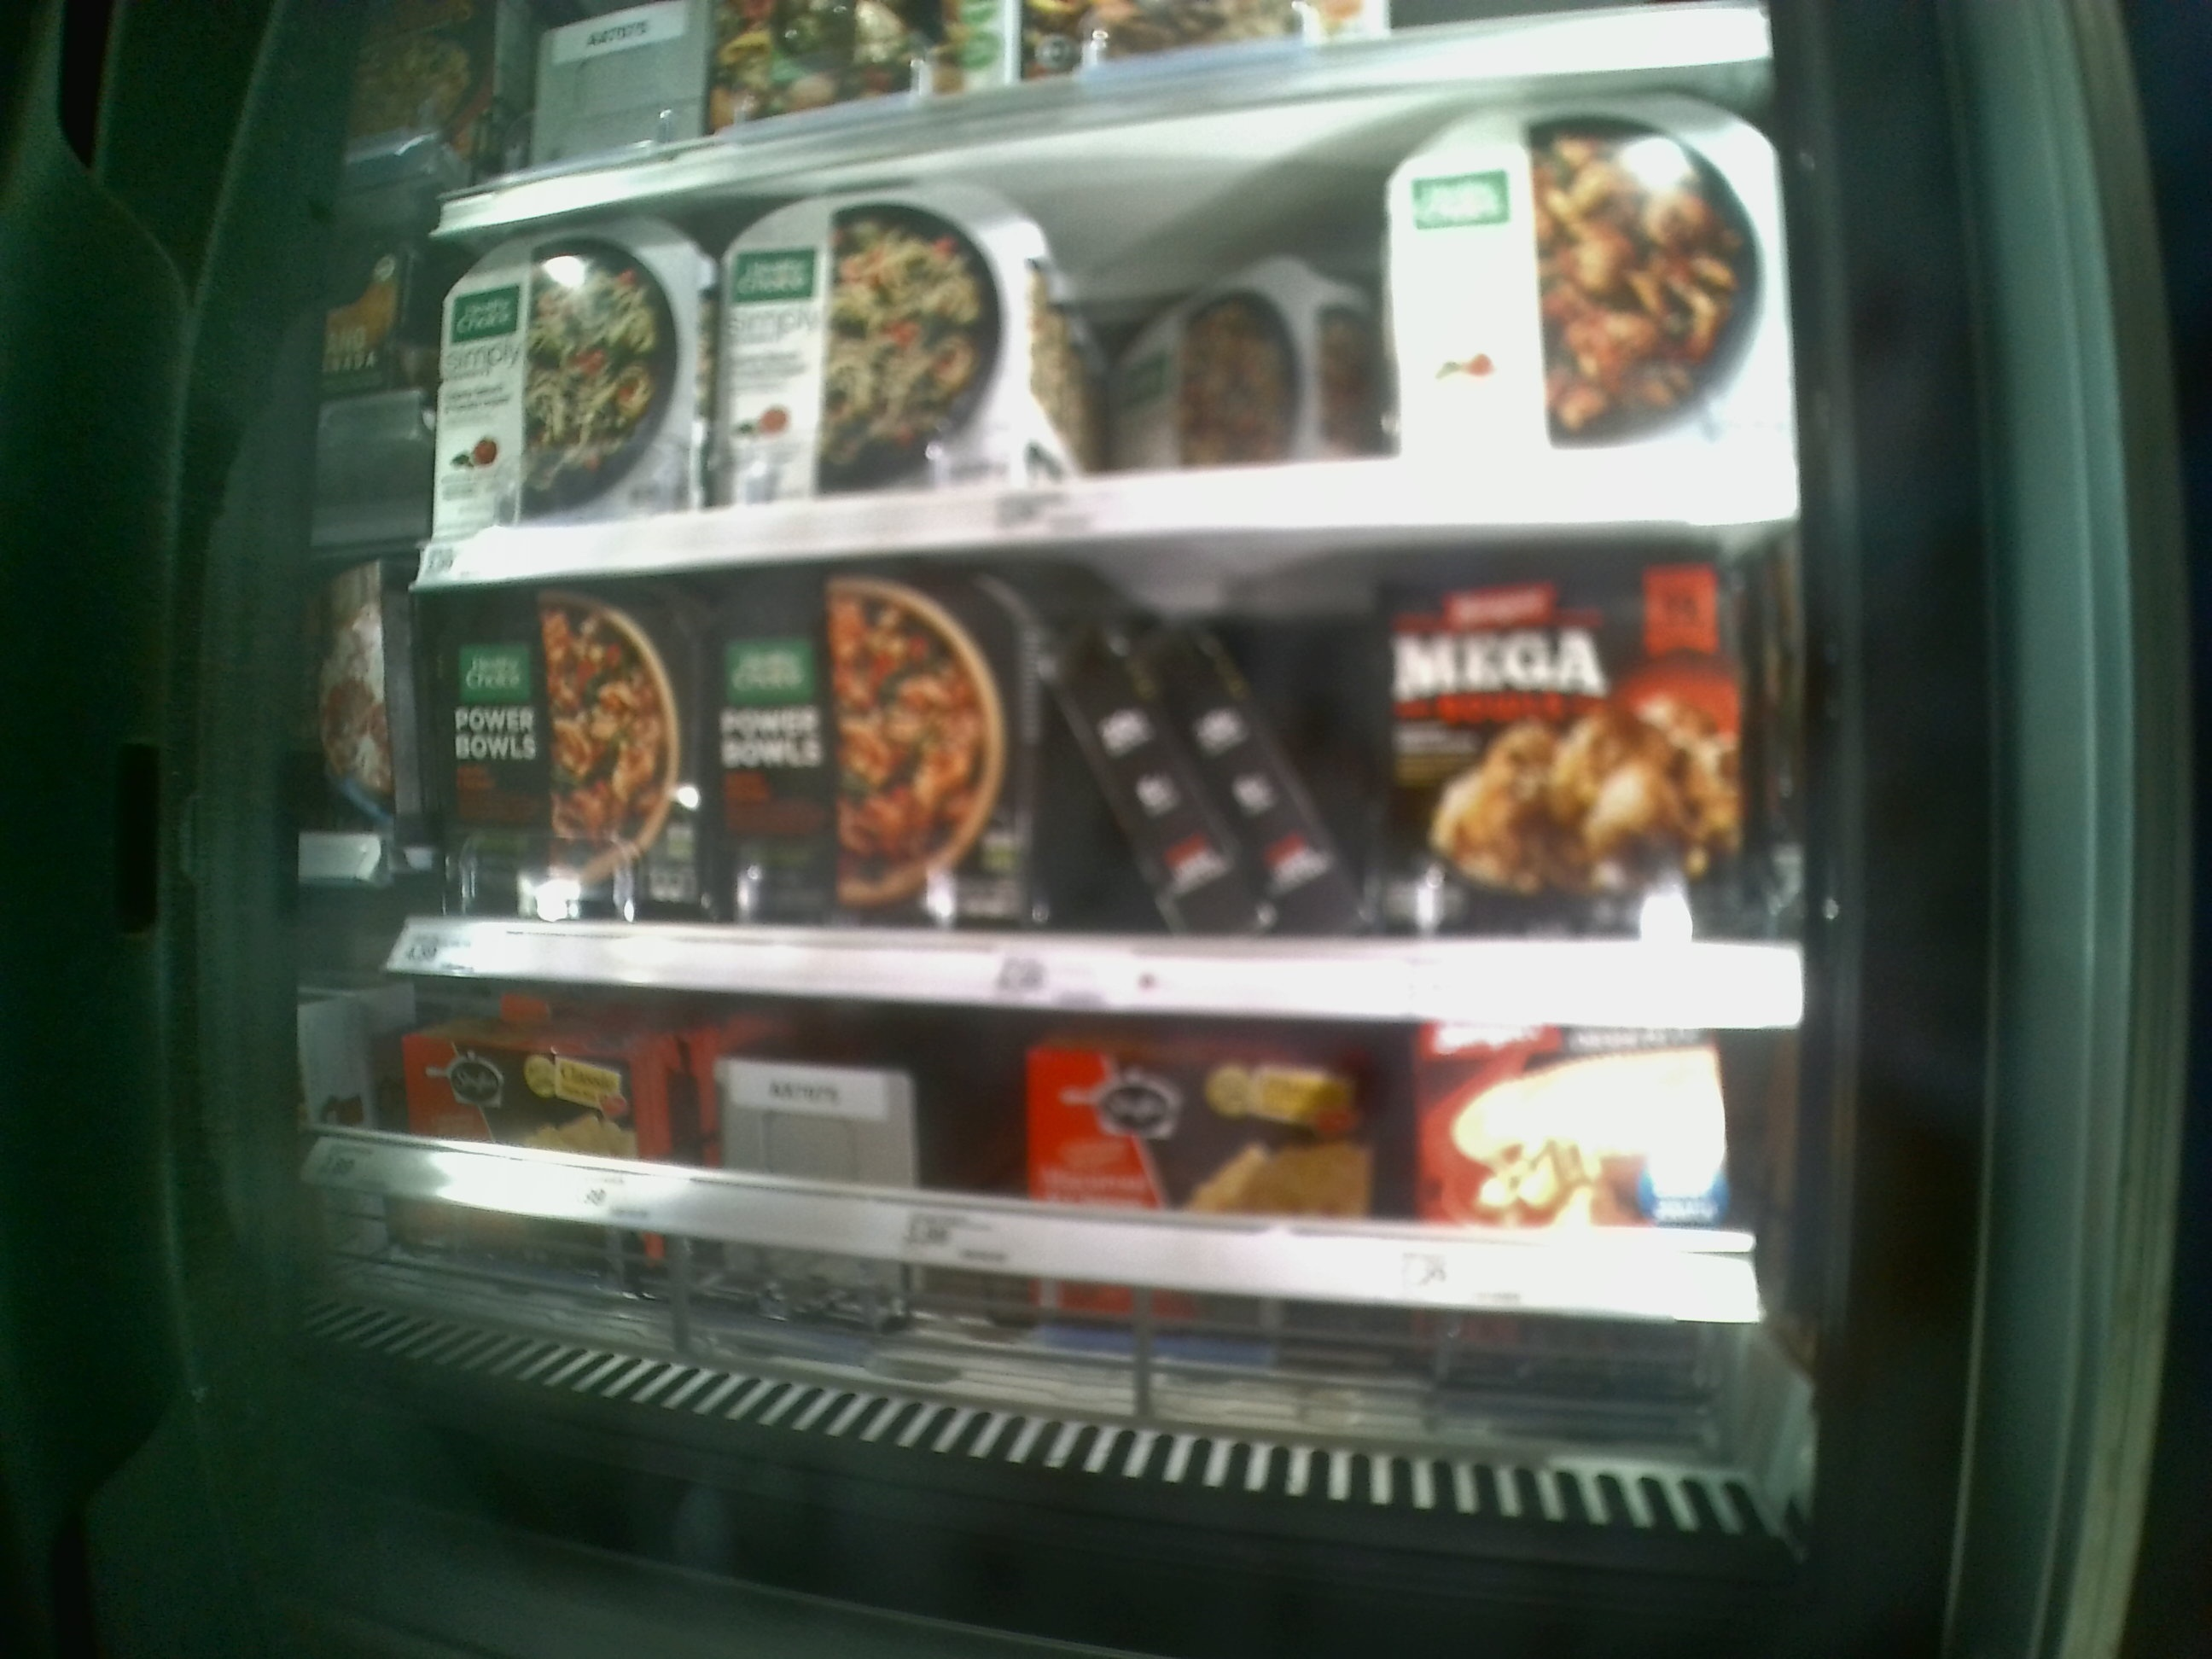shelf: (385, 972, 1794, 1483), (406, 538, 1803, 1030)
